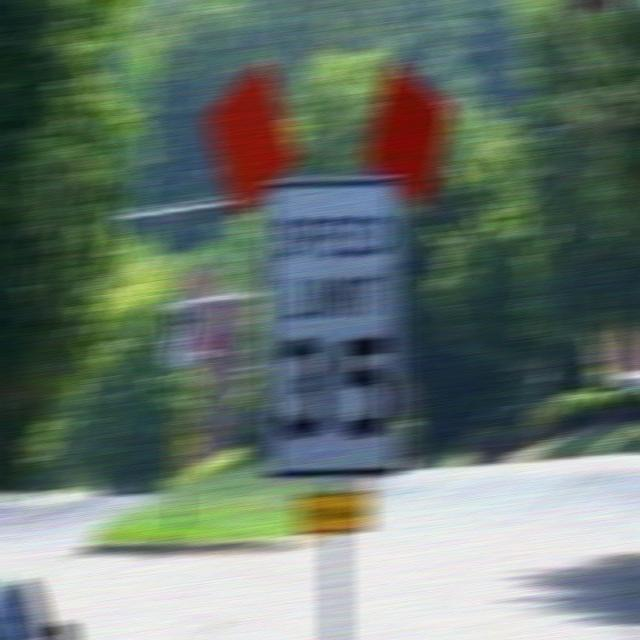speedLimit35: (263, 184, 405, 461)
